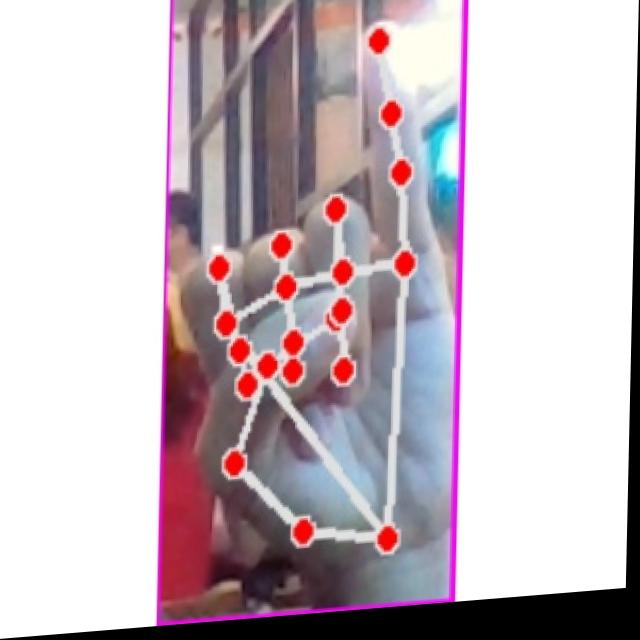I: (173, 9, 458, 600)
